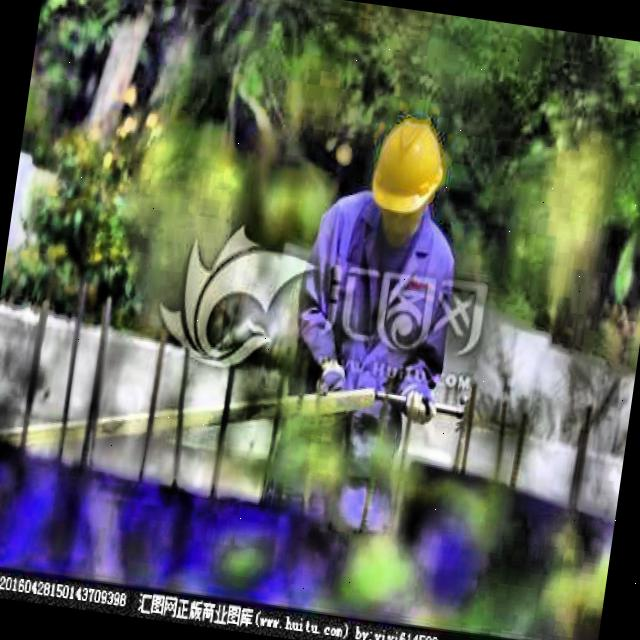helmet: (361, 105, 454, 252)
